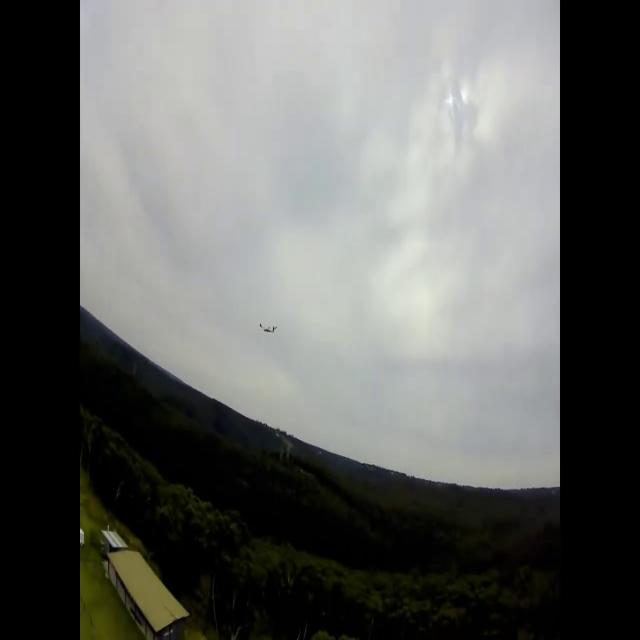iha: (260, 318, 278, 322)
